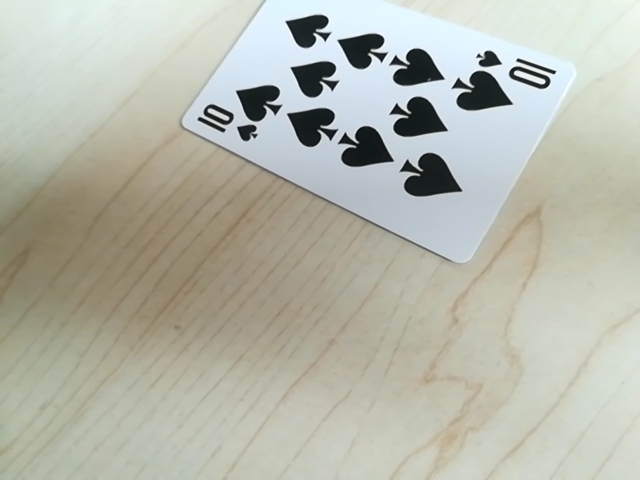ht 10: (468, 44, 563, 85), (190, 102, 259, 147)
